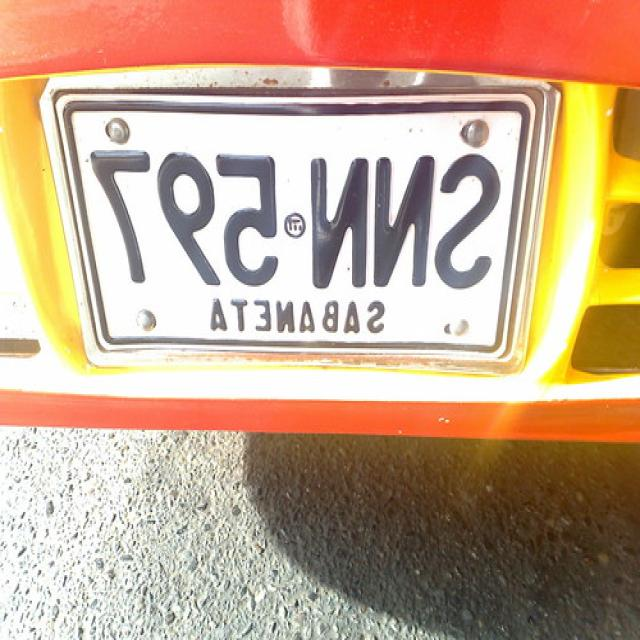placas: (76, 137, 514, 298)
